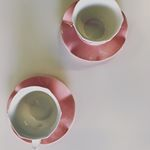cups: (6, 83, 63, 150), (70, 1, 127, 49)
